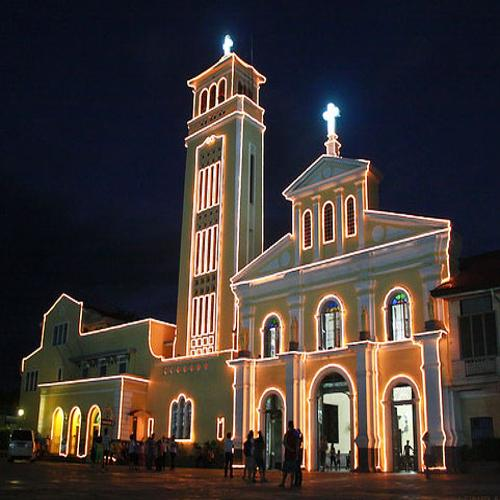Manaoag Church: (161, 22, 462, 478)
